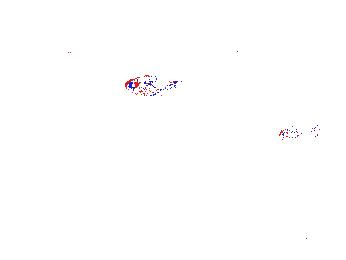X-ray fish: (26, 133, 67, 169)
red belly glassfish: (123, 73, 182, 97), (276, 123, 321, 143)
